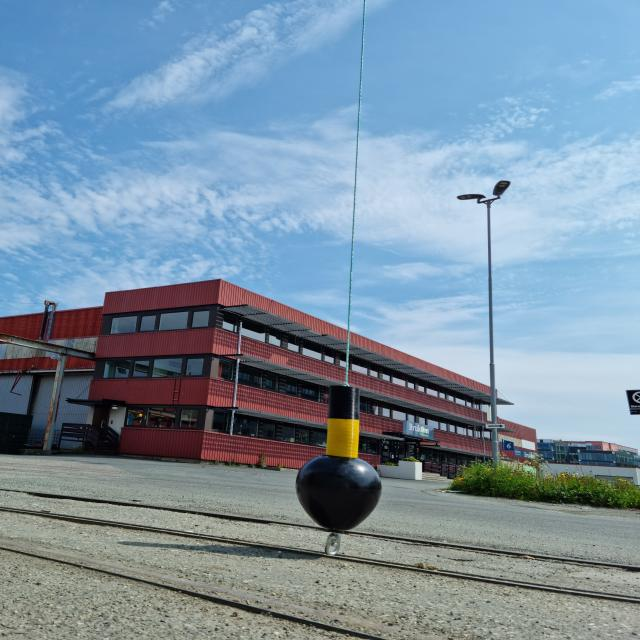east: (295, 384, 382, 532)
